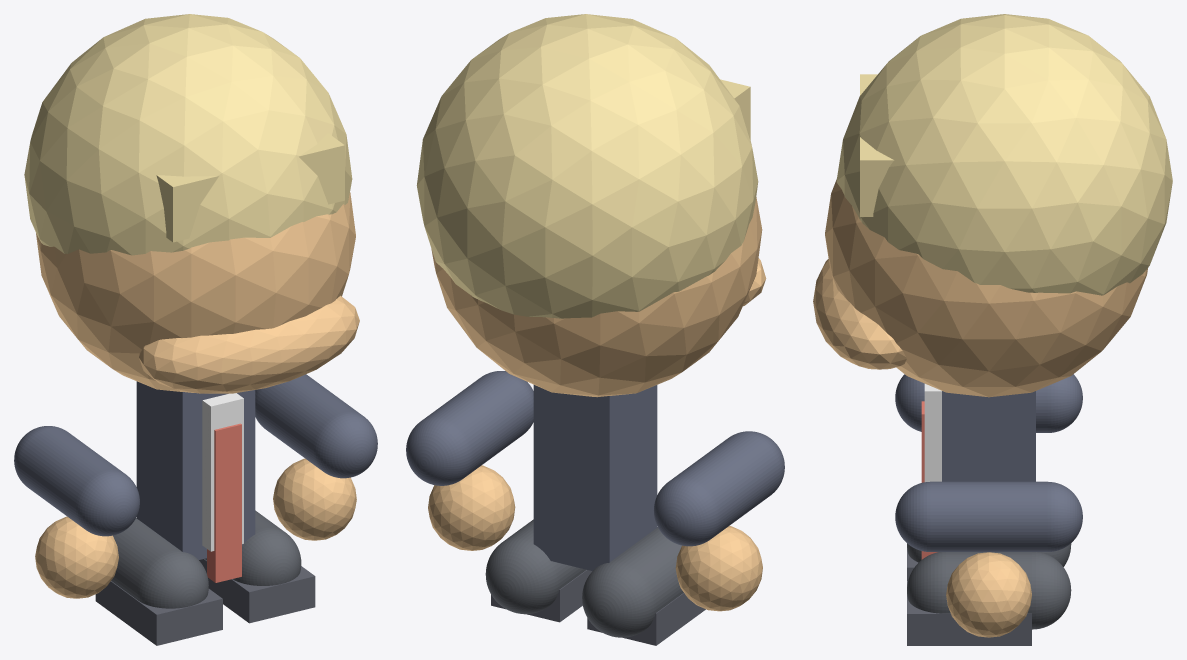
The model's file is bossFigurine.glb.
3 views of the same model, side by side, from view 1: azimuth 30°, elevation 25°; view 2: azimuth 150°, elevation 25°; view 3: azimuth 270°, elevation 25° (orthographic). The views are drawn at different scales.
Visible parts, largest first — view 1: hair_dome, head, torso, jowl, arm-1, arm1, leg-1, hand1, hand-1, tie_long, hair_swoop, shoe-1 (+3 smaller); view 2: hair_dome, head, torso, arm-1, arm1, leg-1, hand1, hand-1, leg1, shoe-1, shoe1, hair_swoop; view 3: hair_dome, head, arm1, torso, hand1, leg1, jowl, arm-1, shoe1, hair_swoop, shirt.
Part boxes in pixels (x1,y1,x2,y2): hair_dome: (24,14,352,255); head: (36,192,355,392); torso: (136,381,255,559); jowl: (139,295,359,393); arm-1: (14,426,139,536); arm1: (255,374,377,478); leg-1: (111,518,208,608); hand1: (273,458,356,540); hand-1: (35,516,118,598); tie_long: (207,423,241,582); hair_swoop: (156,133,344,242); shoe-1: (95,581,222,645); hair_dome: (416,14,758,318); head: (431,197,762,397); torso: (533,385,657,570); arm-1: (654,431,784,546); arm1: (406,371,533,485); leg-1: (582,527,683,637); hand1: (428,465,515,550); hand-1: (675,526,762,611); leg1: (485,519,586,614); shoe-1: (587,593,705,645); shoe1: (491,570,592,622); hair_swoop: (720,79,750,139); hair_dome: (836,14,1172,295); head: (825,179,1147,397); arm1: (895,481,1082,551); torso: (942,391,1035,481); hand1: (946,552,1031,637); leg1: (907,552,1071,629); jowl: (813,259,906,369); arm-1: (895,374,1082,432); shoe1: (907,581,1031,645); hair_swoop: (860,74,893,216); shirt: (924,384,941,482).
Bounding box in the file's own units: 0.94 × 1.63 × 0.92.
